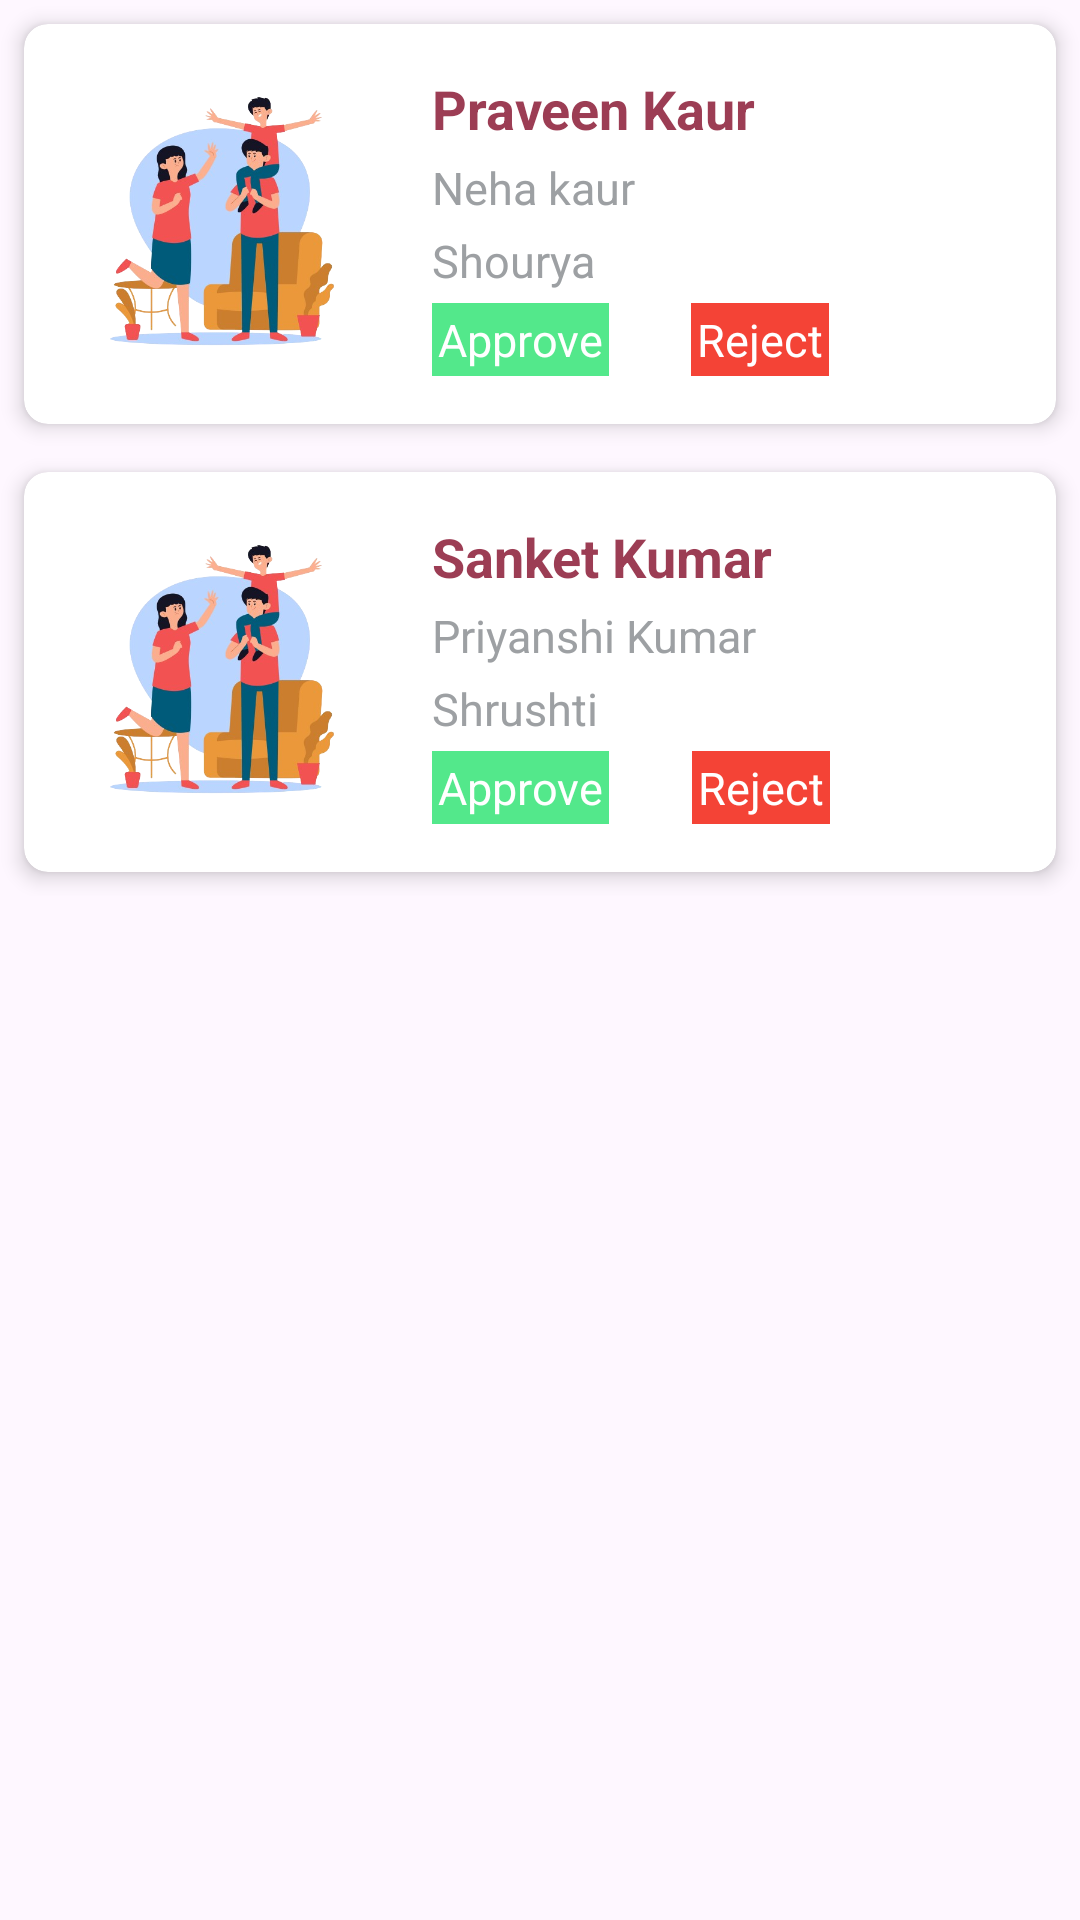

Screen size 1080 × 1920. Icon name, then its box in pixels as (x1, y1, x2, y2):
parentsremovebg: (110, 97, 334, 345), (110, 545, 334, 793)
